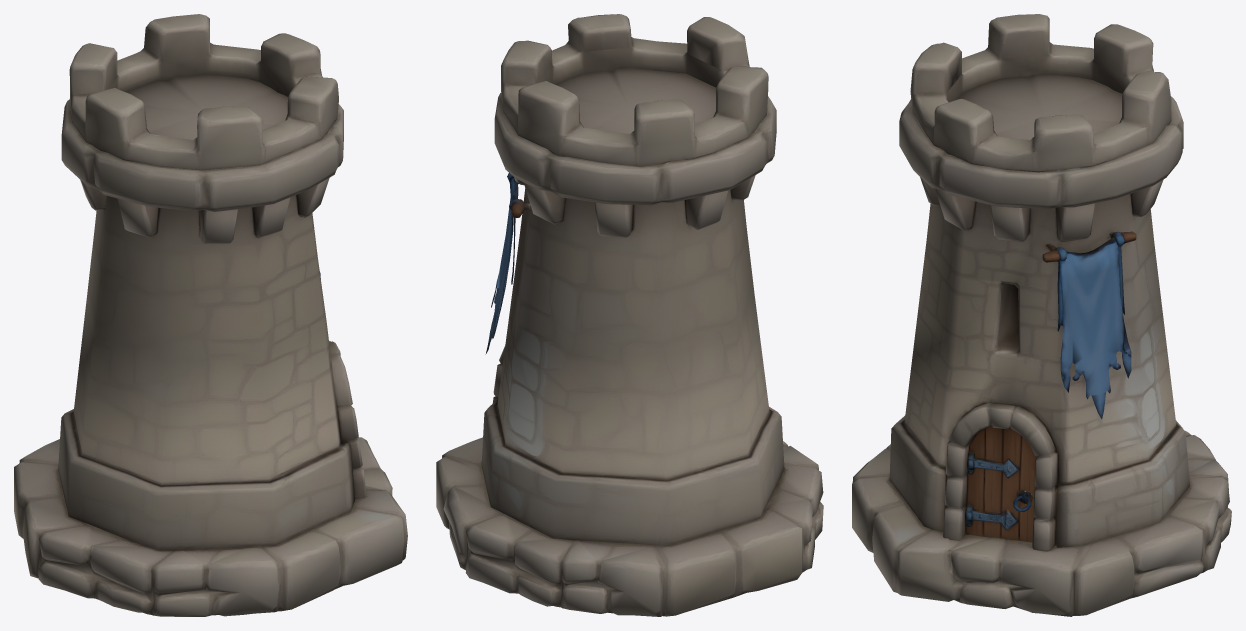
Rendered from tower_damage_tripo.glb.
3 renders of one model, left to right at view 1: azimuth 30°, elevation 25°; view 2: azimuth 150°, elevation 25°; view 3: azimuth 270°, elevation 25°, orthographic.
Visible parts, largest first — view 1: tripo_node_1dba8bc6-1d93-4231-b5c1-a7316a2b982f; view 2: tripo_node_1dba8bc6-1d93-4231-b5c1-a7316a2b982f; view 3: tripo_node_1dba8bc6-1d93-4231-b5c1-a7316a2b982f.
Part boxes in pixels (left/top/right/bottom): tripo_node_1dba8bc6-1d93-4231-b5c1-a7316a2b982f: left=14, top=14, right=407, bottom=616; tripo_node_1dba8bc6-1d93-4231-b5c1-a7316a2b982f: left=436, top=14, right=823, bottom=616; tripo_node_1dba8bc6-1d93-4231-b5c1-a7316a2b982f: left=852, top=14, right=1231, bottom=616.
Bounding box in the file's own units: 0.7676 × 0.998 × 0.7363.
1 material, 1 textured.
